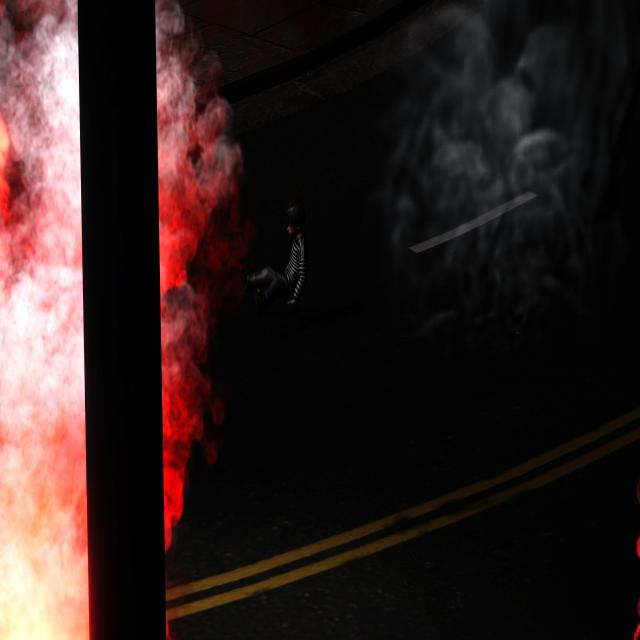Human: (244, 198, 307, 320)
